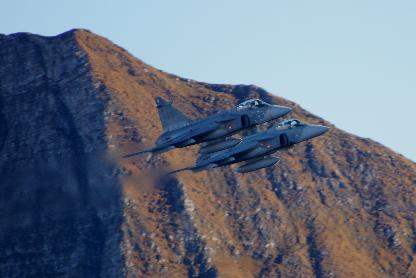JAS39: (122, 96, 300, 158), (164, 116, 338, 176)
